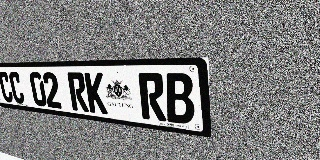0: (29, 72, 47, 107)
2: (42, 72, 62, 109)
B: (164, 73, 195, 125)
C: (8, 72, 25, 104), (0, 72, 14, 103)
K: (84, 72, 108, 114)
R: (138, 73, 167, 122), (67, 72, 89, 112)
